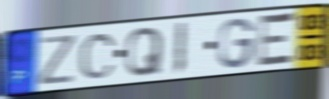C: (78, 32, 118, 81)
E: (255, 10, 298, 70)
G: (216, 16, 256, 71)
I: (172, 20, 189, 77)
Q: (124, 25, 164, 79)
Z: (37, 33, 79, 88)
